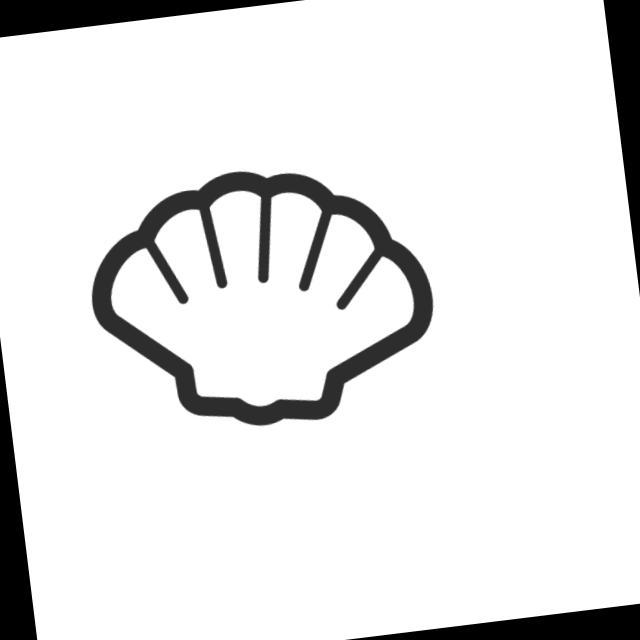shell: (72, 144, 452, 455)
